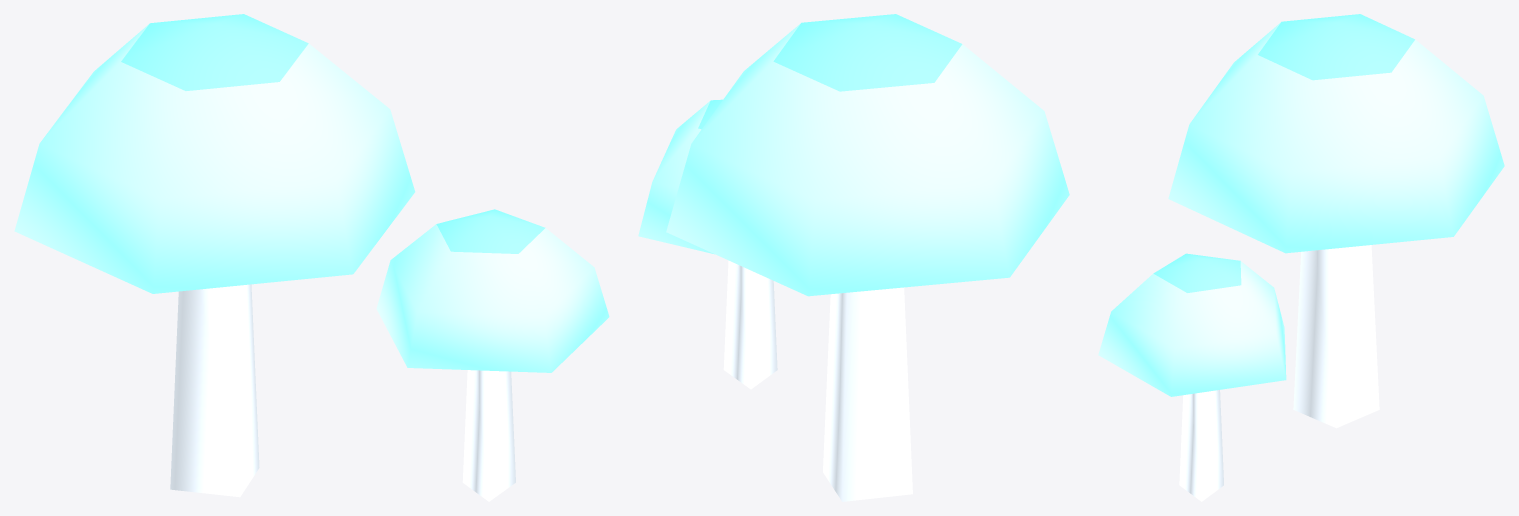
File: glow-mushroom.glb
3 views of the same model, side by side, from view 1: azimuth 30°, elevation 25°; view 2: azimuth 150°, elevation 25°; view 3: azimuth 270°, elevation 25° (orthographic). The views are drawn at different scales.
Parts seen in each view (by area): view 1: glow-mushroom; view 2: glow-mushroom; view 3: glow-mushroom.
Boxes of the visible parts, x1=… form: glow-mushroom: x1=14, y1=14, x2=609, y2=501; glow-mushroom: x1=638, y1=14, x2=1069, y2=501; glow-mushroom: x1=1098, y1=14, x2=1504, y2=501.
Size of the model in its own units: 0.862 by 0.8 by 0.762.
